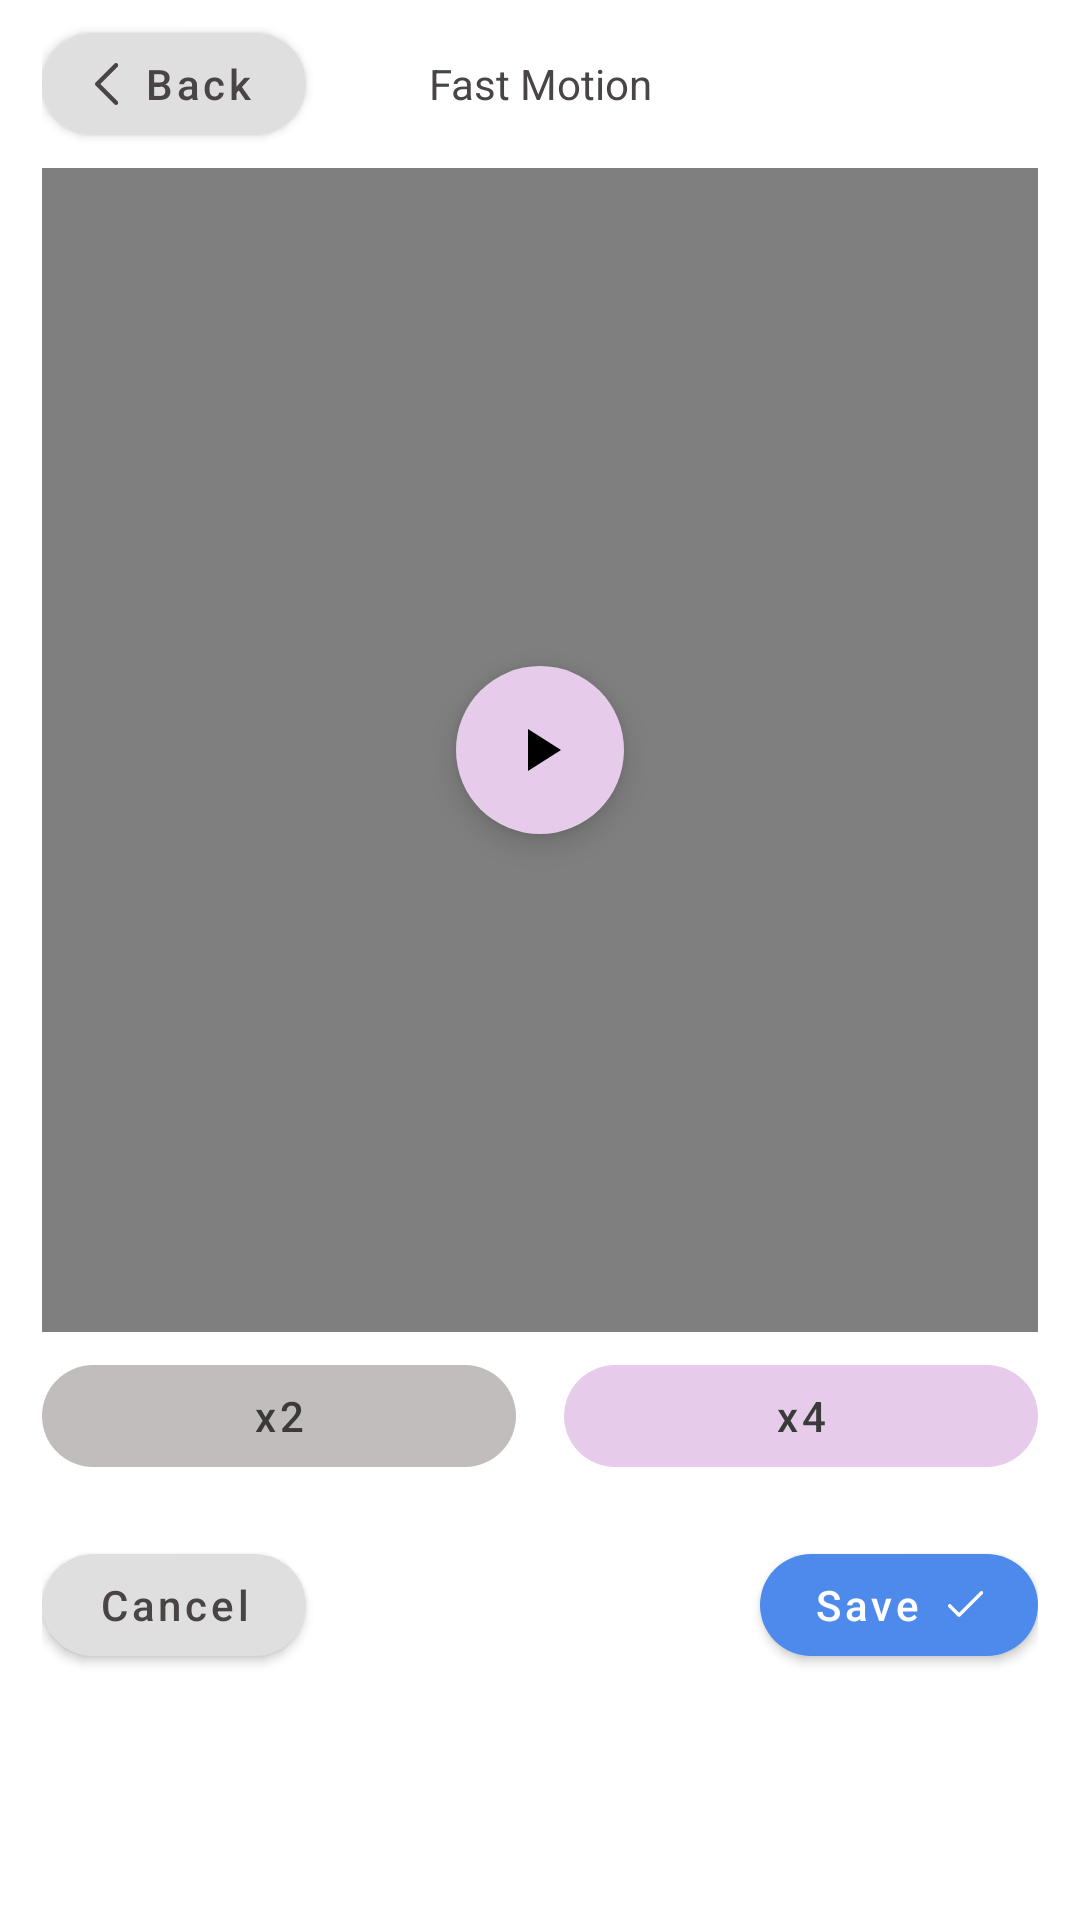

Named icons in this screenshot (1080px x 1920px) and their bounding boxes, (x1, y1, x2, y2):
play arrow: (456, 666, 624, 834)
